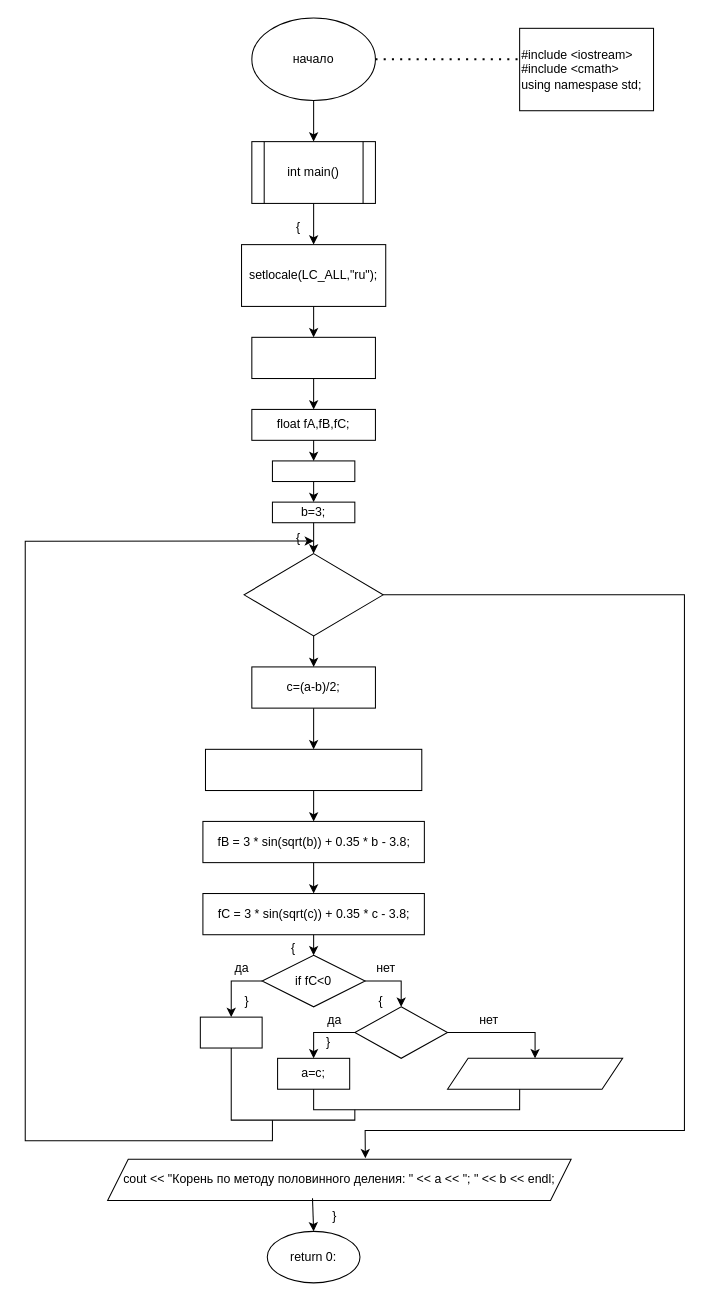
Image size: 711x1301. Some labels were removed from this diagram. Each missing label, with the centre of its shape:
a=2;: [313,471]
b=c;: [230,1032]
cout << "ошибка" << endl;: [535,1073]
fA = 3*sin(sqrt(a)) + 0.35*a - 3.8;: [313,769]
float a,b,c;: [313,357]
if fB<0: [401,1032]
while (b-a > eps): [313,594]
